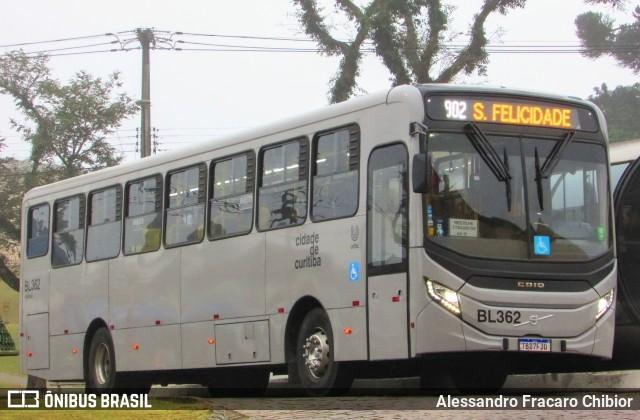S. FELICIDADE: (471, 100, 576, 131)
